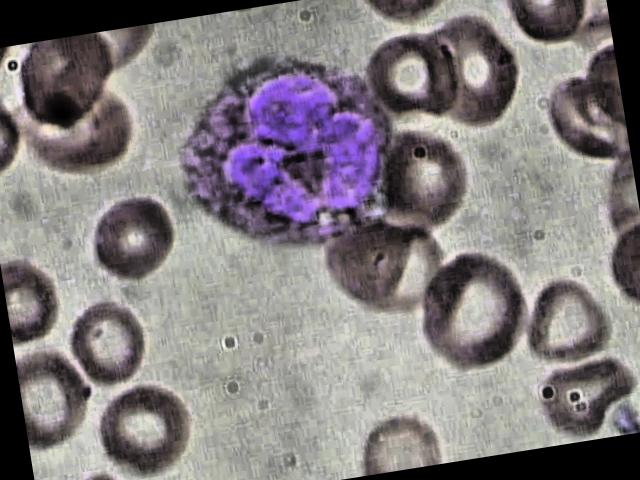RBC: (400, 242, 540, 380), (414, 5, 530, 139), (364, 117, 478, 240), (82, 375, 202, 480), (355, 23, 469, 128), (524, 346, 640, 448), (513, 266, 618, 372), (78, 186, 186, 288), (316, 208, 424, 310), (60, 289, 158, 391), (14, 341, 99, 454), (0, 248, 78, 349), (350, 399, 444, 477), (502, 0, 593, 54)
WBC: (152, 26, 428, 289)
